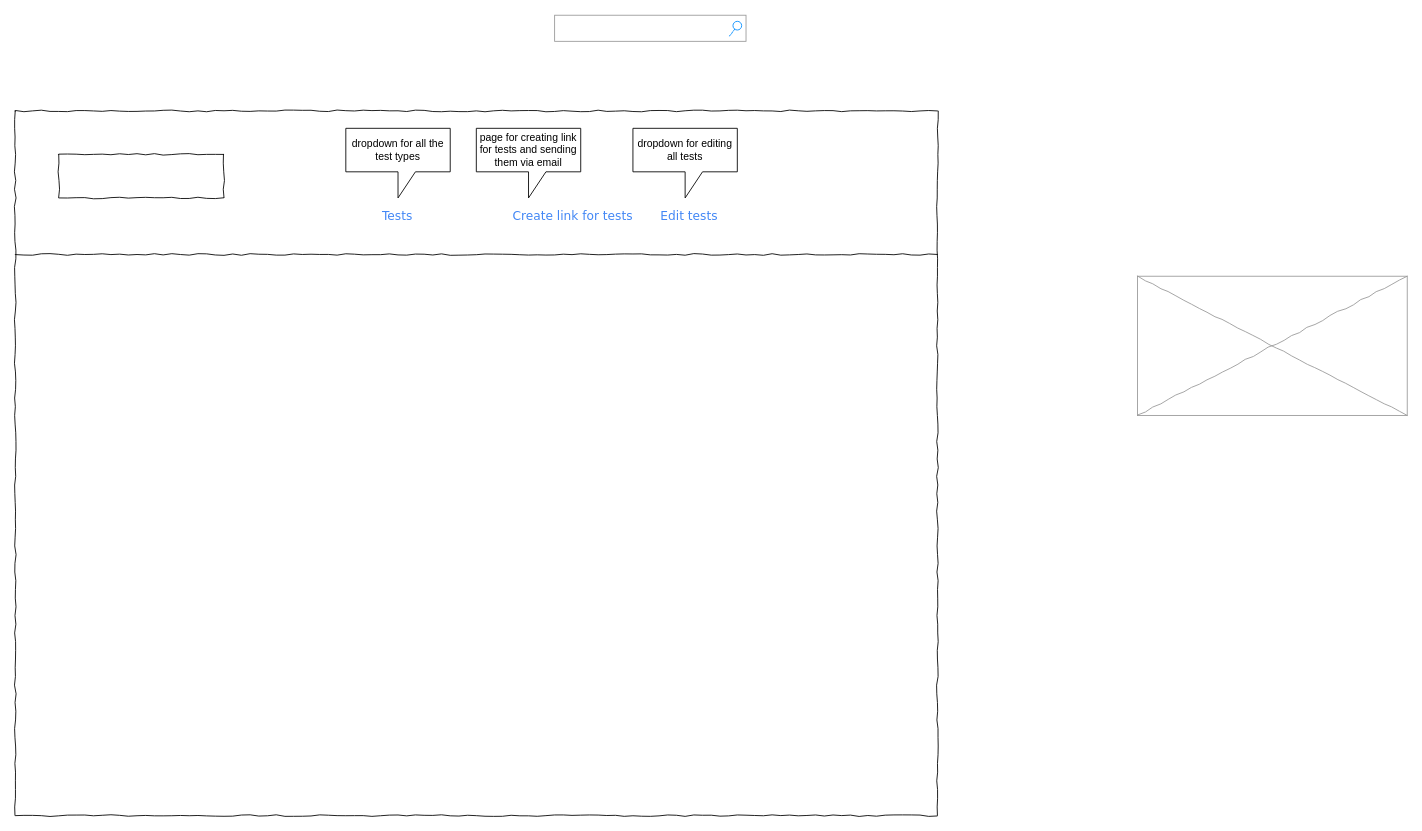
Some shapes in this 1422 by 831 pixel diagram are drawn without their labels. The centre of each missing label's shape, as x and y in pixels:
"LOGO" belongs at pixel 141 176.
"Search" belongs at pixel 650 27.
